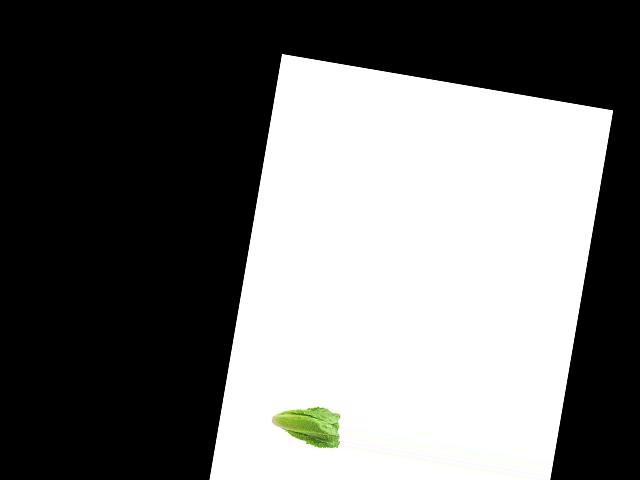lettuce: (266, 396, 346, 454)
